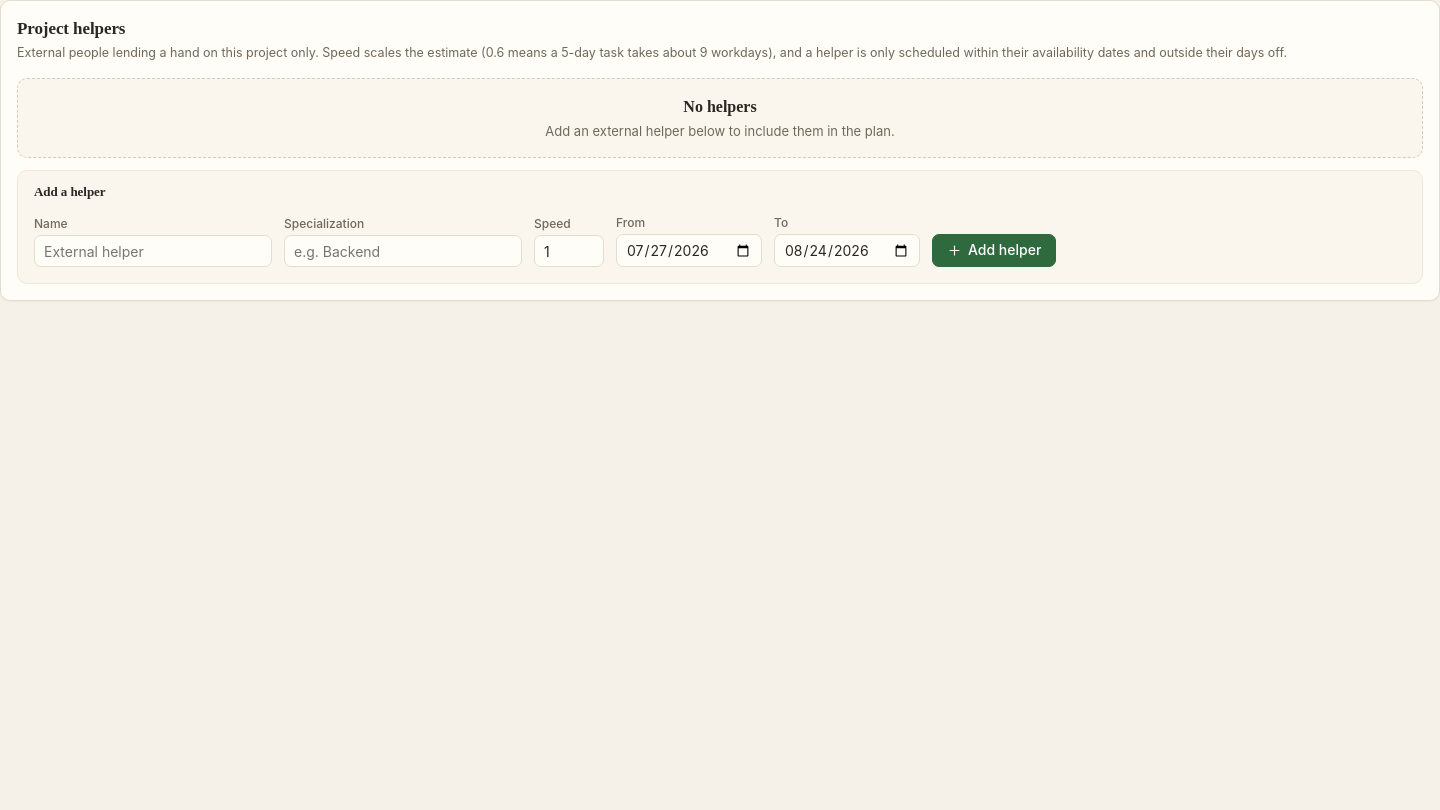
Test: HelpersPanel › adds and removes a helper's day off through the manager
This screenshot has width=1440, height=810.
Type "Contractor" into the field labelled "Name" at (153, 251), box [34,235,272,267]
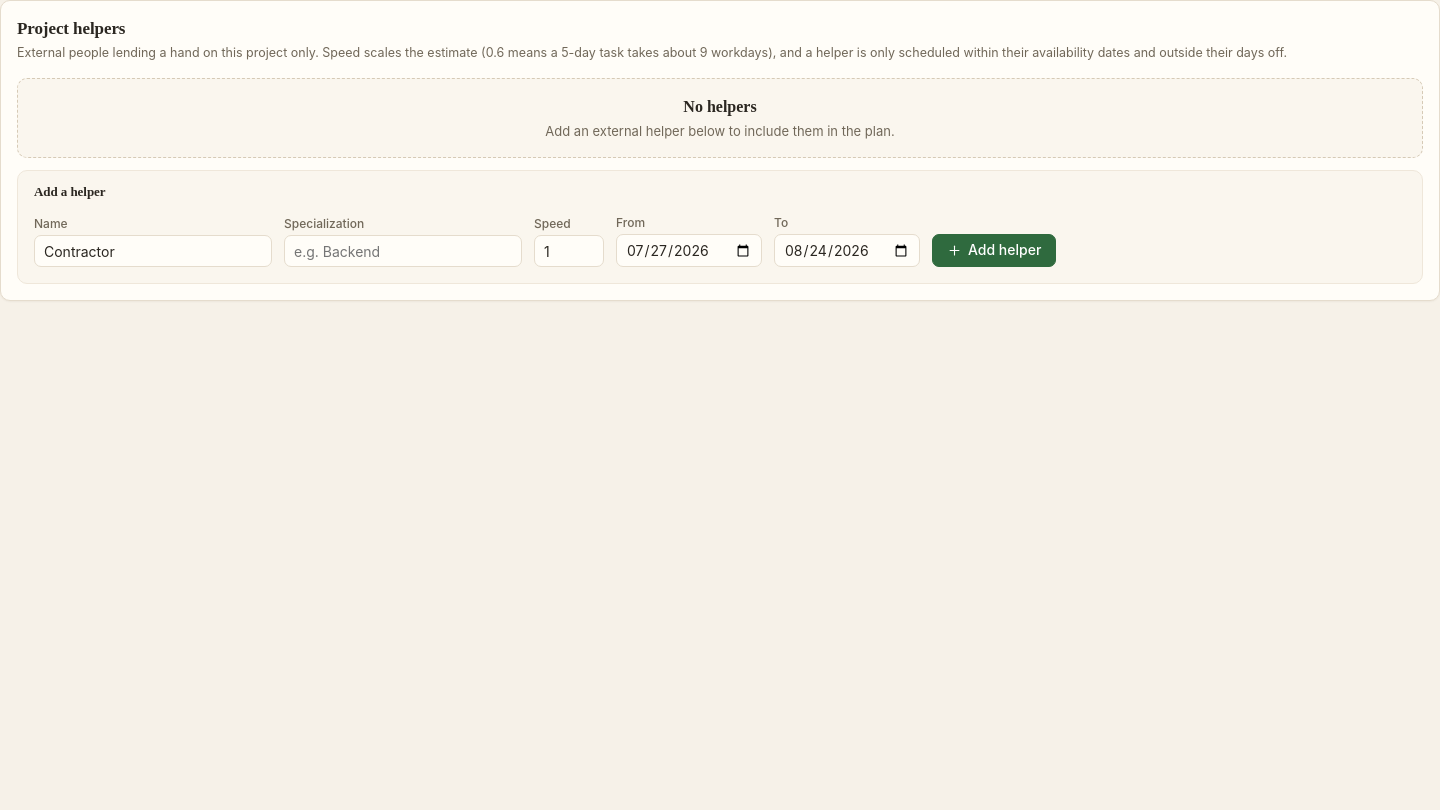
Click the button "Add helper" at (994, 251), box [932,234,1056,267]
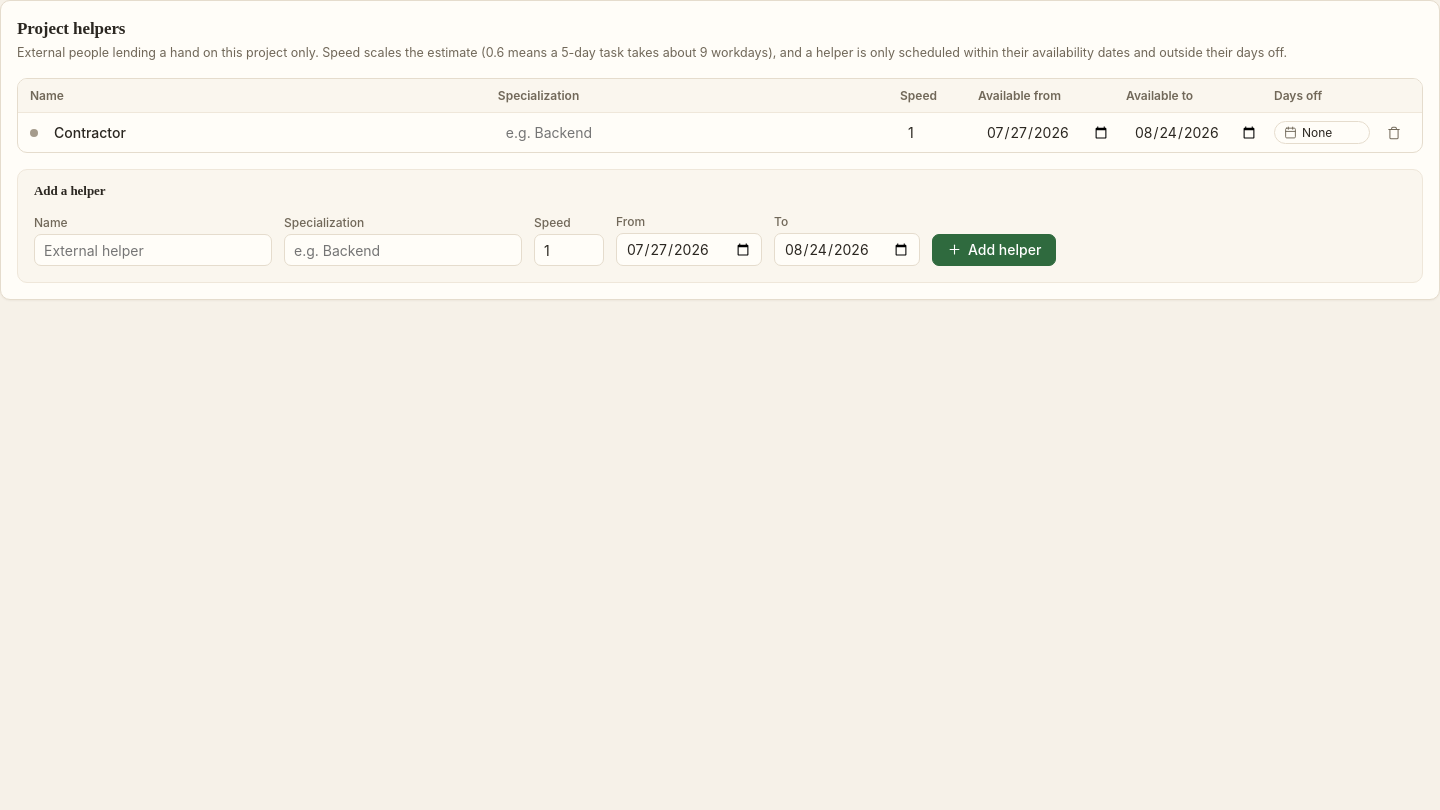
Now the button with aria-label "Days off for Contractor" reads "None"
Click the button with aria-label "Days off for Contractor" at (1322, 133), box [1274,121,1370,144]
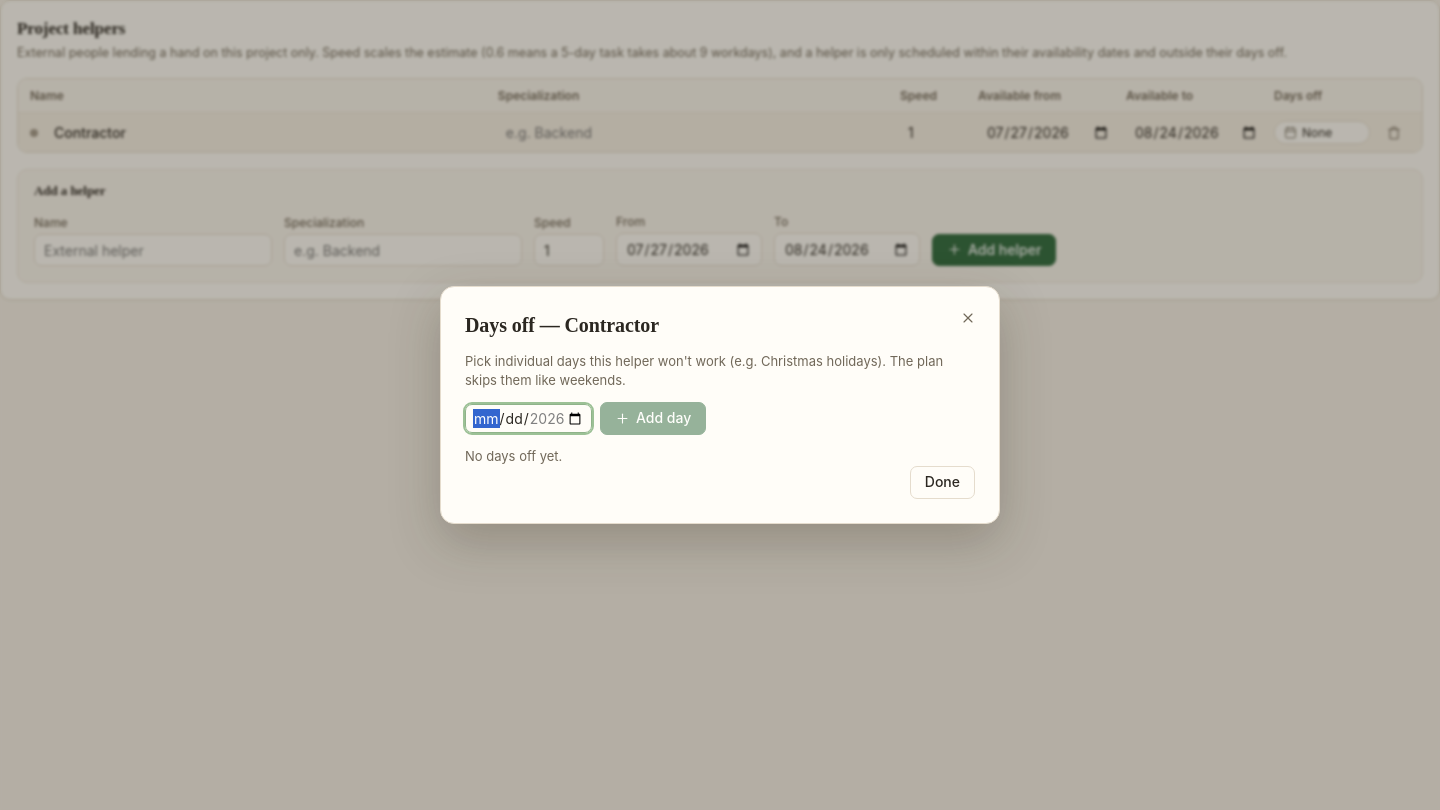
Type "2026-12-25" into the date field named "Off day" at (528, 418), box [465,404,592,433]
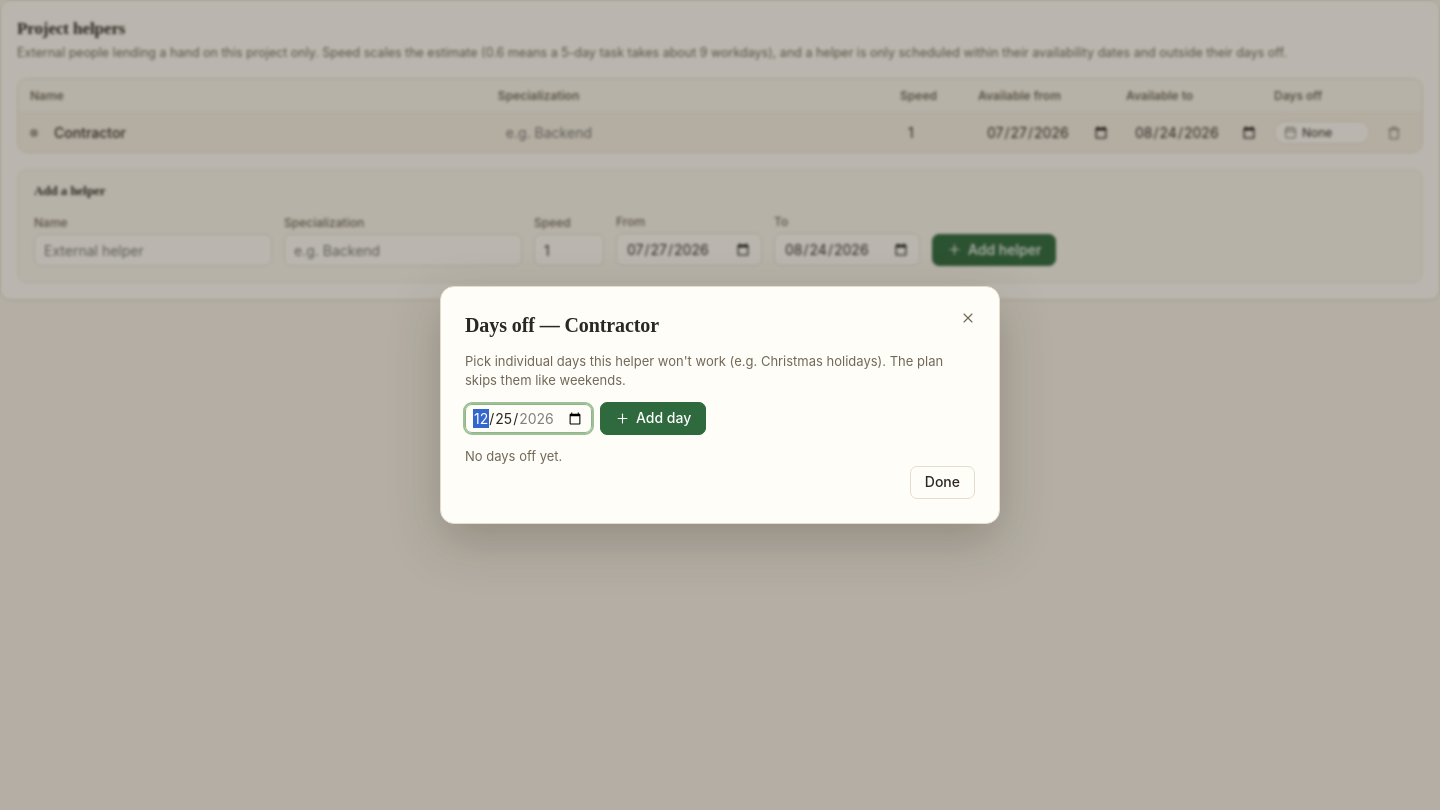
Click the button "Add day" at (653, 418), box [600,402,706,435]
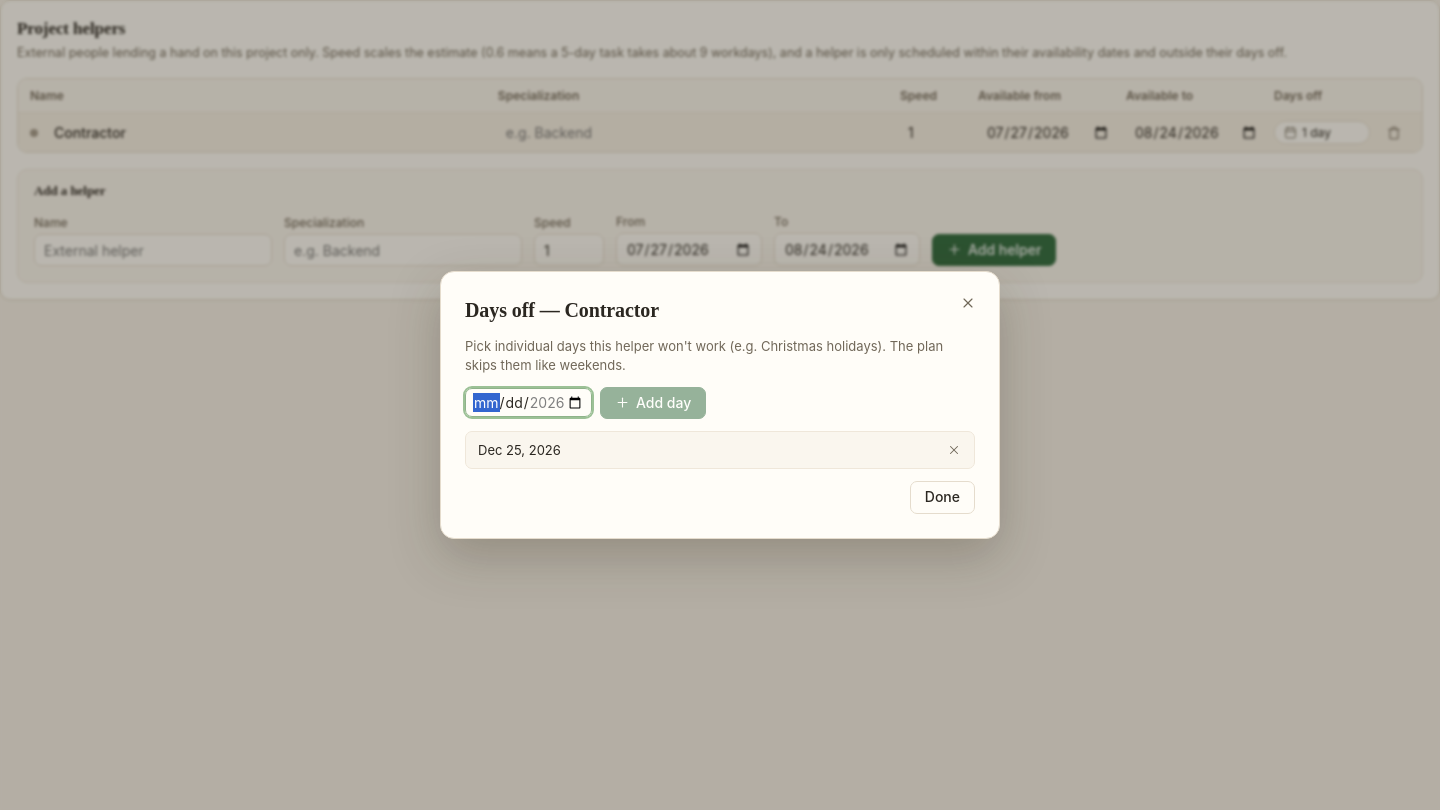
Now the button with aria-label "Days off for Contractor" reads "1 day", box [1274,121,1370,144]
# Remove it again (label is locale-formatted, so match on the year).
Click the button named "Remove Dec 25, 2026" at (954, 450), box [940,436,968,464]
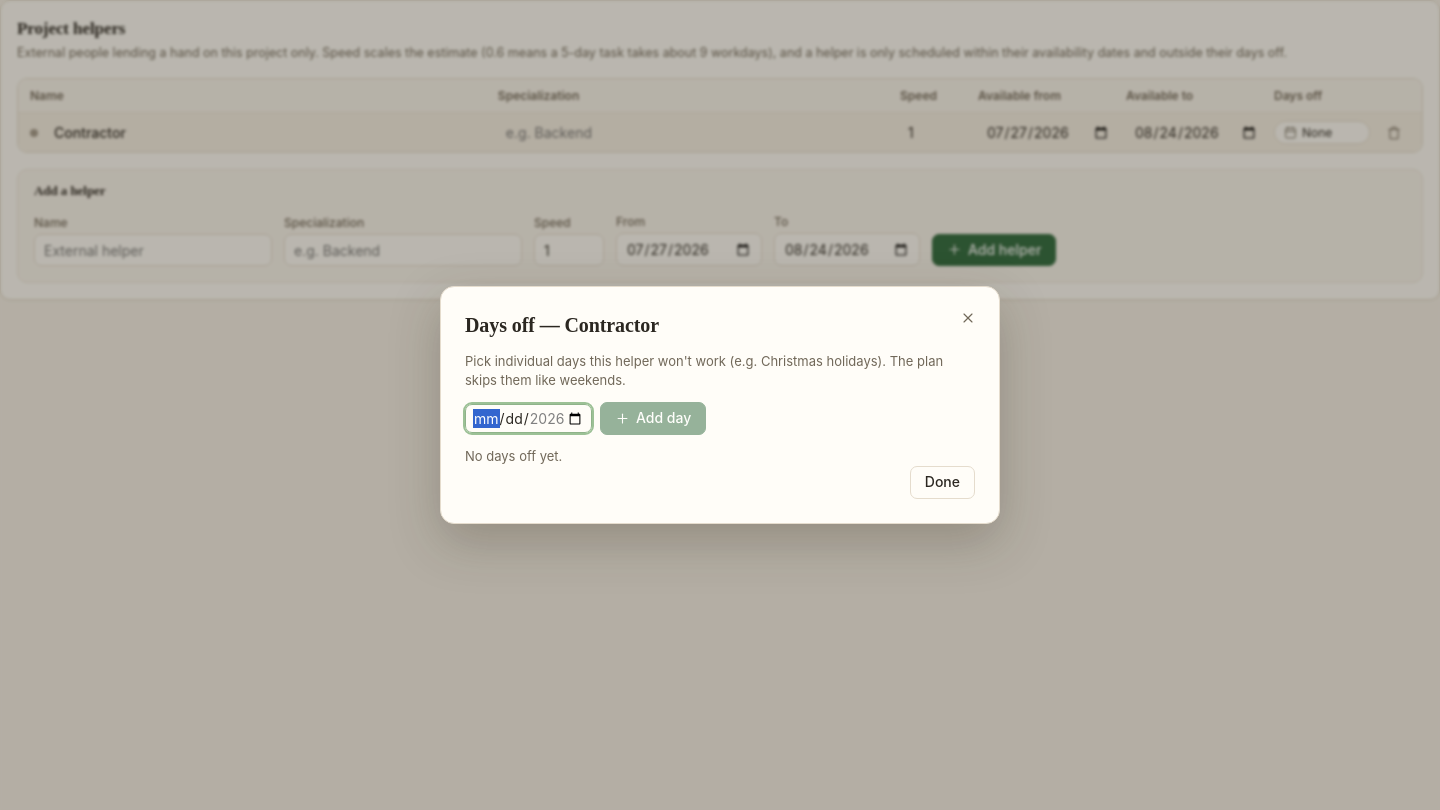
Now the button with aria-label "Days off for Contractor" reads "None", box [1274,121,1370,144]
